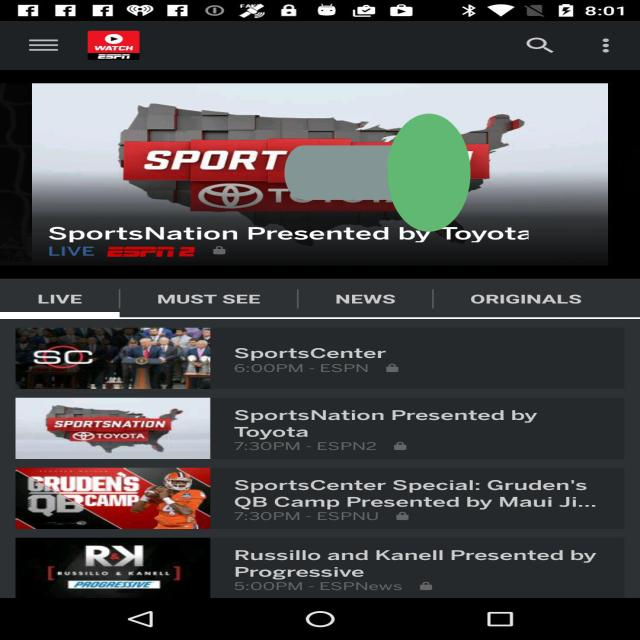social proof: (284, 41, 470, 304)
